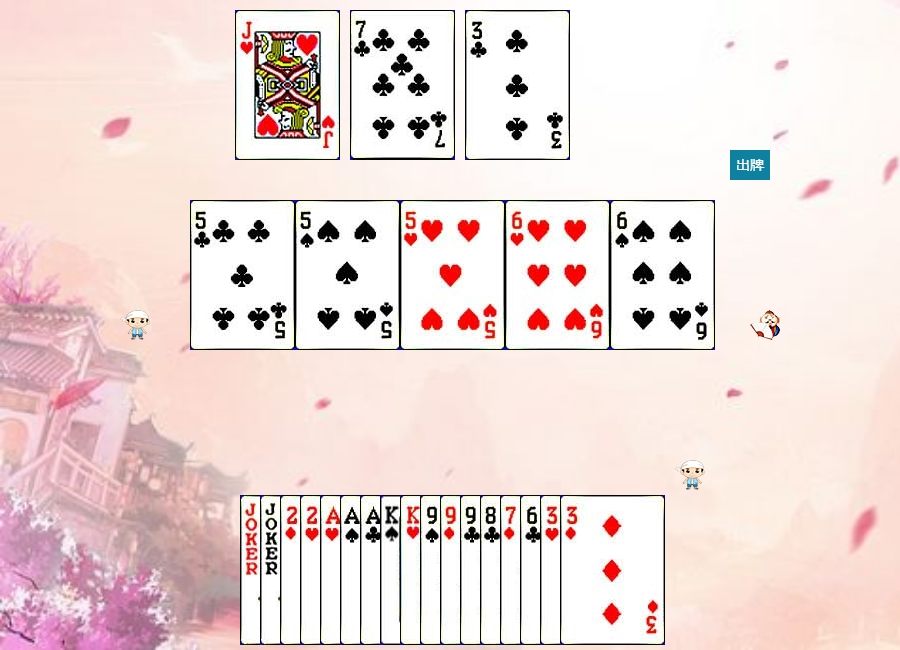11~3: (235, 10, 340, 160)
13~3: (400, 495, 505, 645)
13~4: (380, 495, 485, 645)
14~2: (360, 495, 465, 645)
14~3: (320, 495, 425, 645)
14~4: (340, 495, 445, 645)
15~1: (280, 495, 385, 645)
15~3: (300, 495, 405, 645)
17~3: (260, 495, 365, 645)
18~4: (240, 495, 345, 645)
3~1: (560, 495, 665, 645)
3~2: (465, 10, 570, 160)
3~3: (540, 495, 645, 645)
5~2: (190, 200, 295, 350)
5~3: (400, 200, 505, 350)
5~4: (295, 200, 400, 350)
6~2: (520, 495, 625, 645)
6~3: (505, 200, 610, 350)
6~4: (610, 200, 715, 350)
7~1: (500, 495, 605, 645)
7~2: (350, 10, 455, 160)
8~2: (480, 495, 585, 645)
9~1: (440, 495, 545, 645)
9~2: (460, 495, 565, 645)
9~4: (420, 495, 525, 645)
